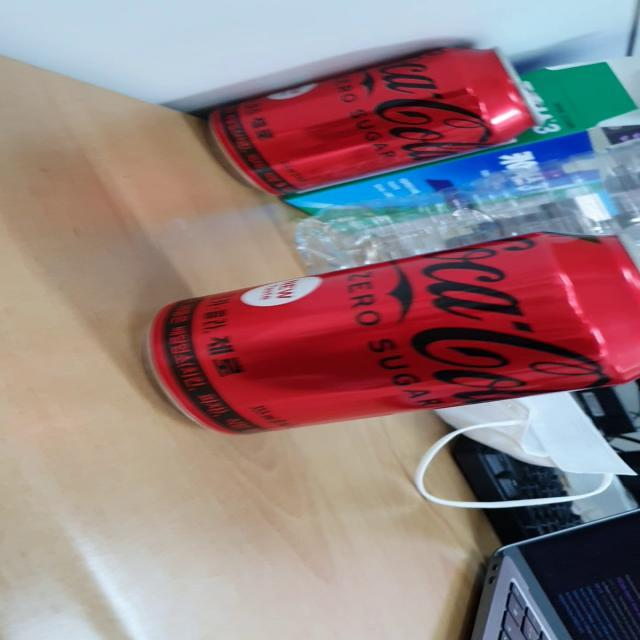coca-cola: (132, 224, 640, 442), (188, 32, 568, 206)
